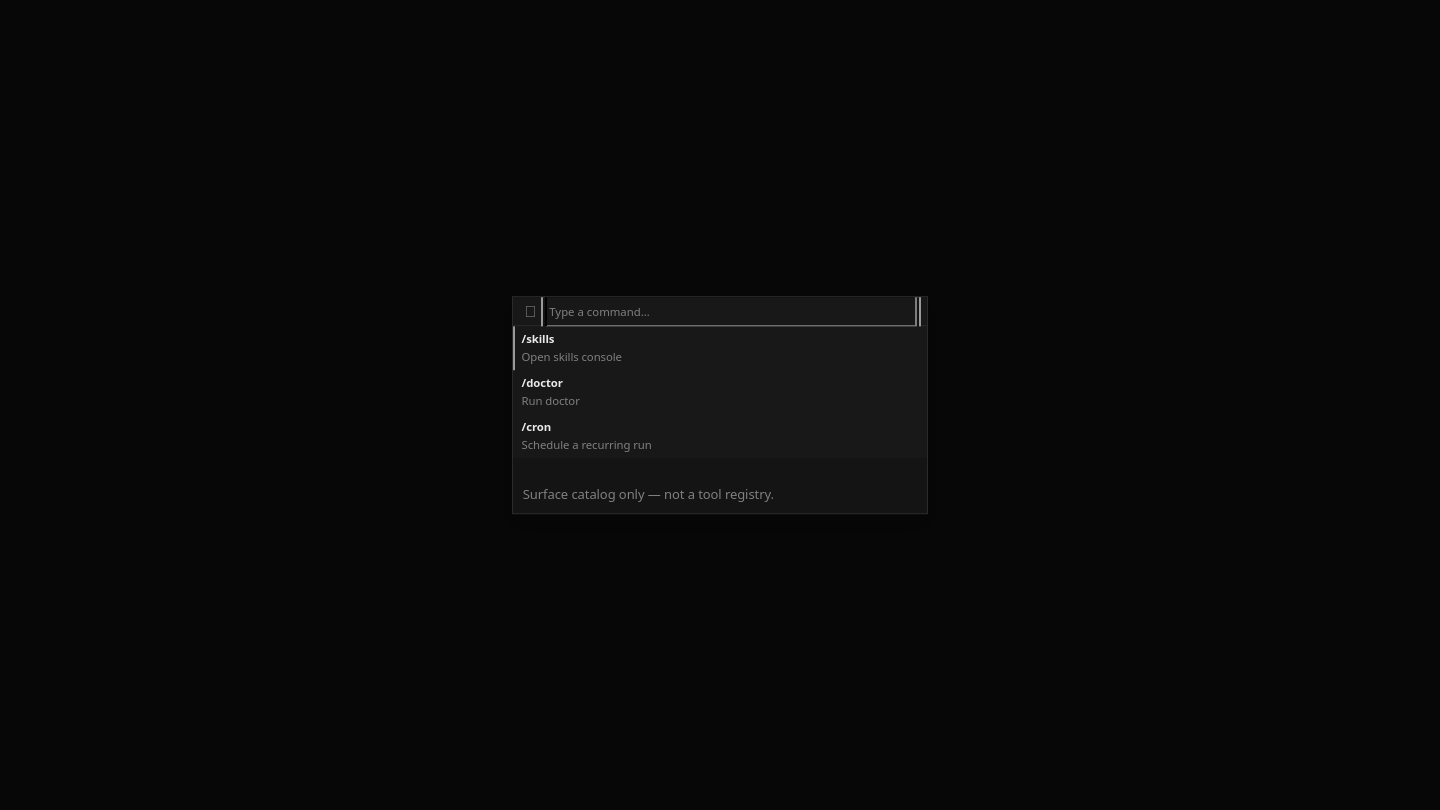
Scenario: CommandPalette › filters on id, name and description, the way it always did
Check: the text "/skills" is shown, box [522,331,554,348]
In the dropdown named "Filter commands": (731, 311) [545,295,917,328], type "recurring"
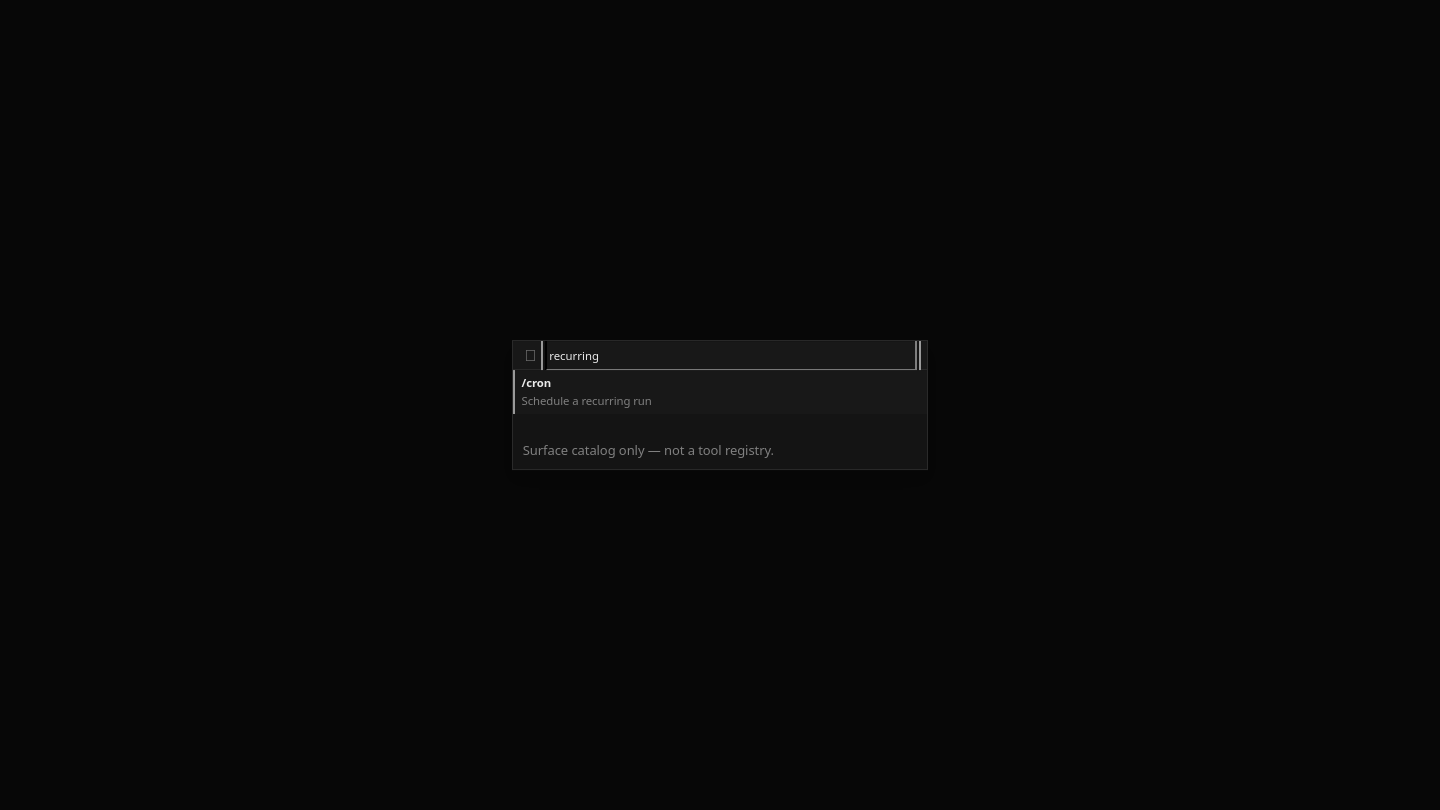
Check: the text "/cron" is shown, box [522,375,551,392]
Check: the number of options is 1, box [513,370,927,414]
